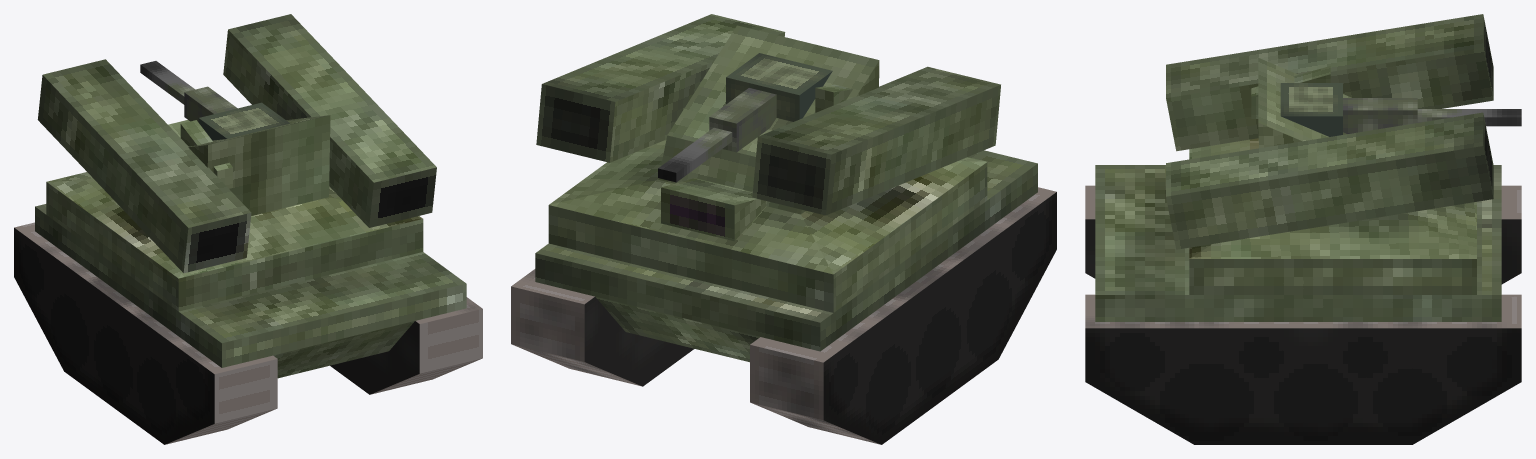
The model's file is TAT-10.gltf.
3 renders of one model, left to right at view 1: azimuth 30°, elevation 25°; view 2: azimuth 150°, elevation 25°; view 3: azimuth 270°, elevation 25°, orthographic. The views are drawn at different scales.
Visible parts, largest first — view 1: mesh (×10); view 2: mesh (×11); view 3: mesh (×10).
Boxes of the visible parts, x1,y1,x2,y2 form: mesh (×10): [14, 14, 482, 444]; mesh (×11): [511, 14, 1056, 444]; mesh (×10): [1085, 14, 1521, 444].
Bounding box in the file's own units: 4.25 × 4.09 × 5.5.
2 materials, 2 textured.
